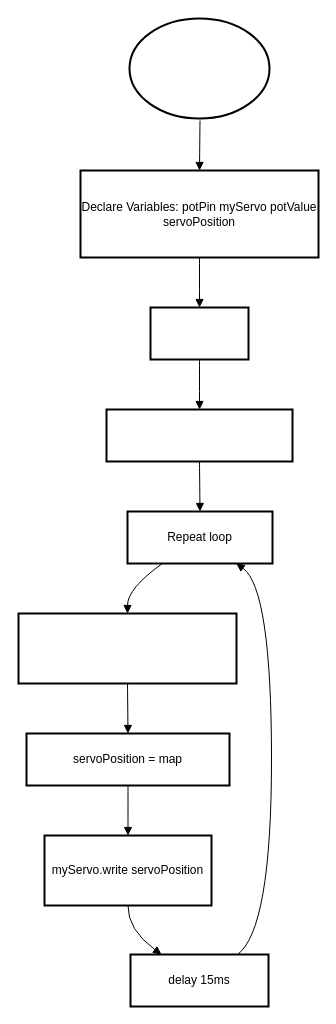
Some shapes in this 336 by 1024 pixel diagram are drawn without their labels. Here are the shapes that lost their labels. From the top down, the box of each, then its label:
(149, 306, 249, 360): setup
(105, 408, 293, 462): myServo.attach 9
(17, 612, 237, 684): potValue = analogRead potPin
